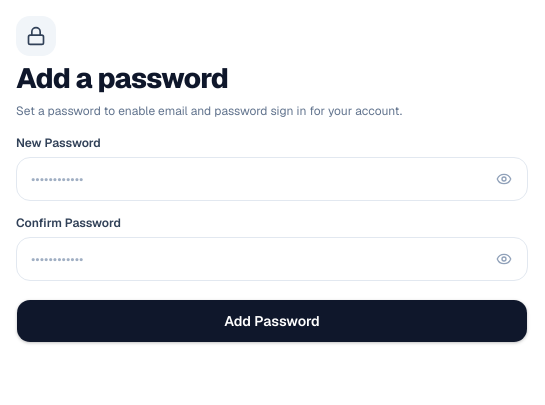
Test case: AddPasswordForm › shows validation errors on empty submission
The image size is (545, 405).
Click the button "Add Password": (272, 321) [16, 299, 528, 343]
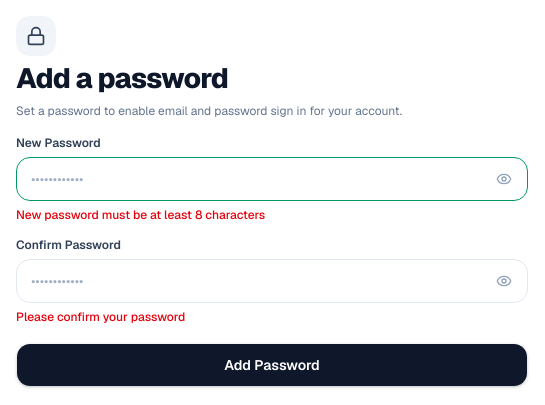
Expected: the text "New password must be at least 8 characters" is shown, [16, 207, 265, 223]
Expected: the text "Please confirm your password" is shown, [16, 309, 185, 325]
